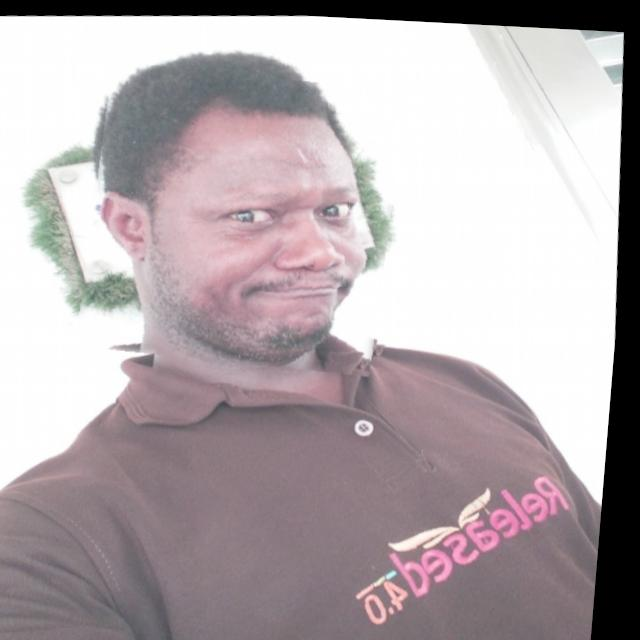sad: (72, 52, 417, 381)
